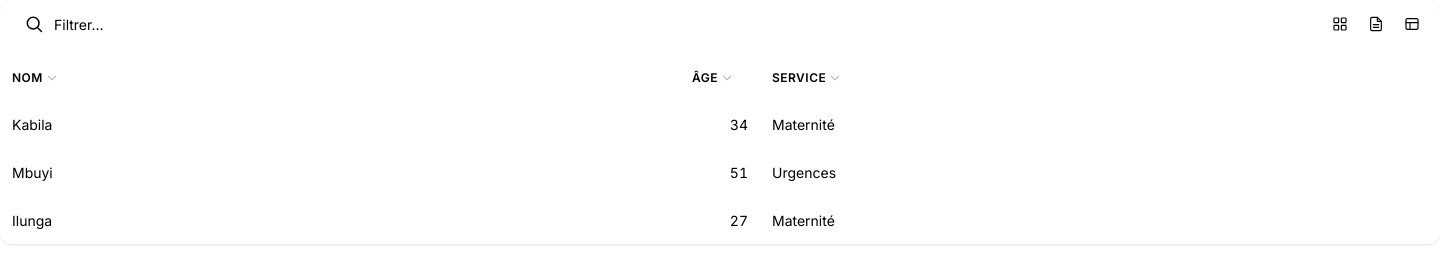
Test case: DataTable › filtre avec la recherche rapide
This screenshot has width=1440, height=262.
Type "Maternité" into the search field at (159,24), box [52,12,266,36]
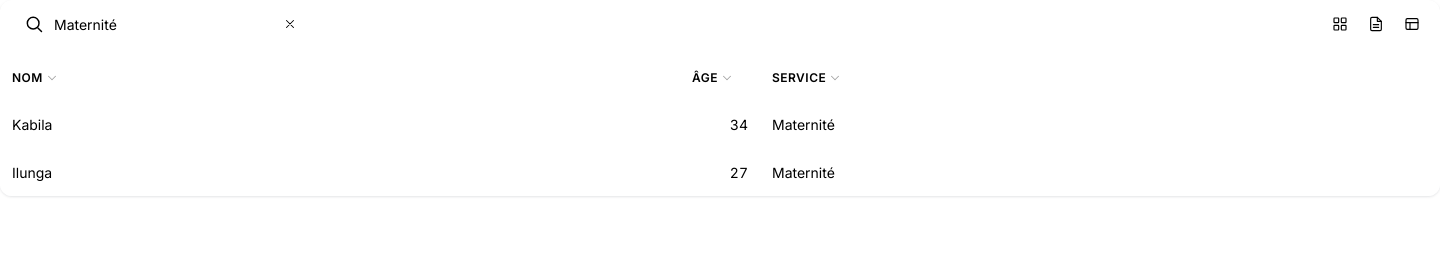
Expected: the cell "Kabila" is shown, [12,116,52,132]
Expected: the cell "Mbuyi" is gone
